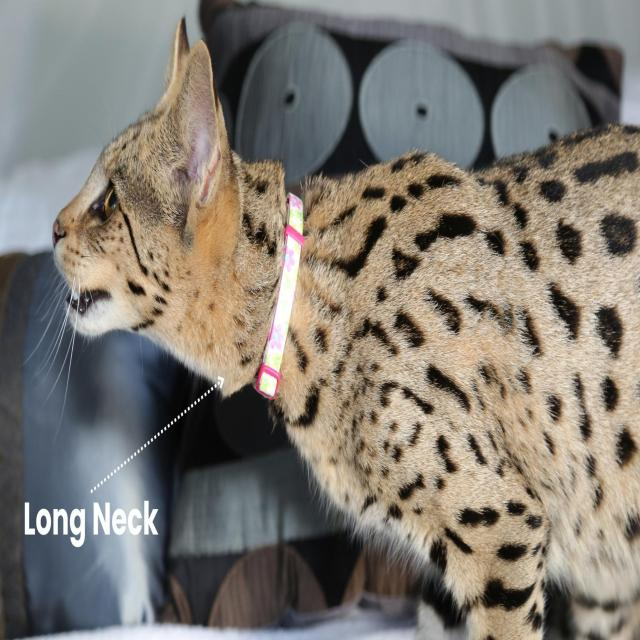Savannah: (48, 11, 640, 640)
